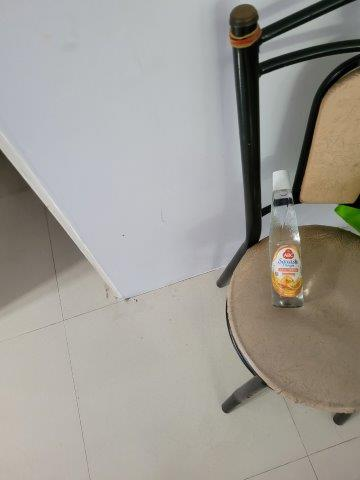botolkaca: (270, 170, 304, 307)
